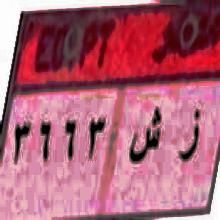3: (85, 109, 113, 167), (12, 120, 32, 172)
6: (62, 113, 81, 163), (38, 110, 54, 168)
sheen: (128, 97, 164, 172)
zay: (178, 100, 204, 167)
